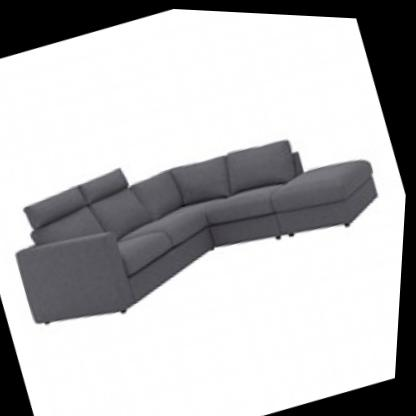Sofa: (0, 67, 407, 364)
